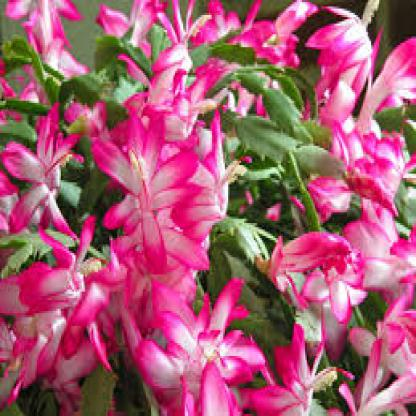Aglonema: (30, 86, 393, 301)
